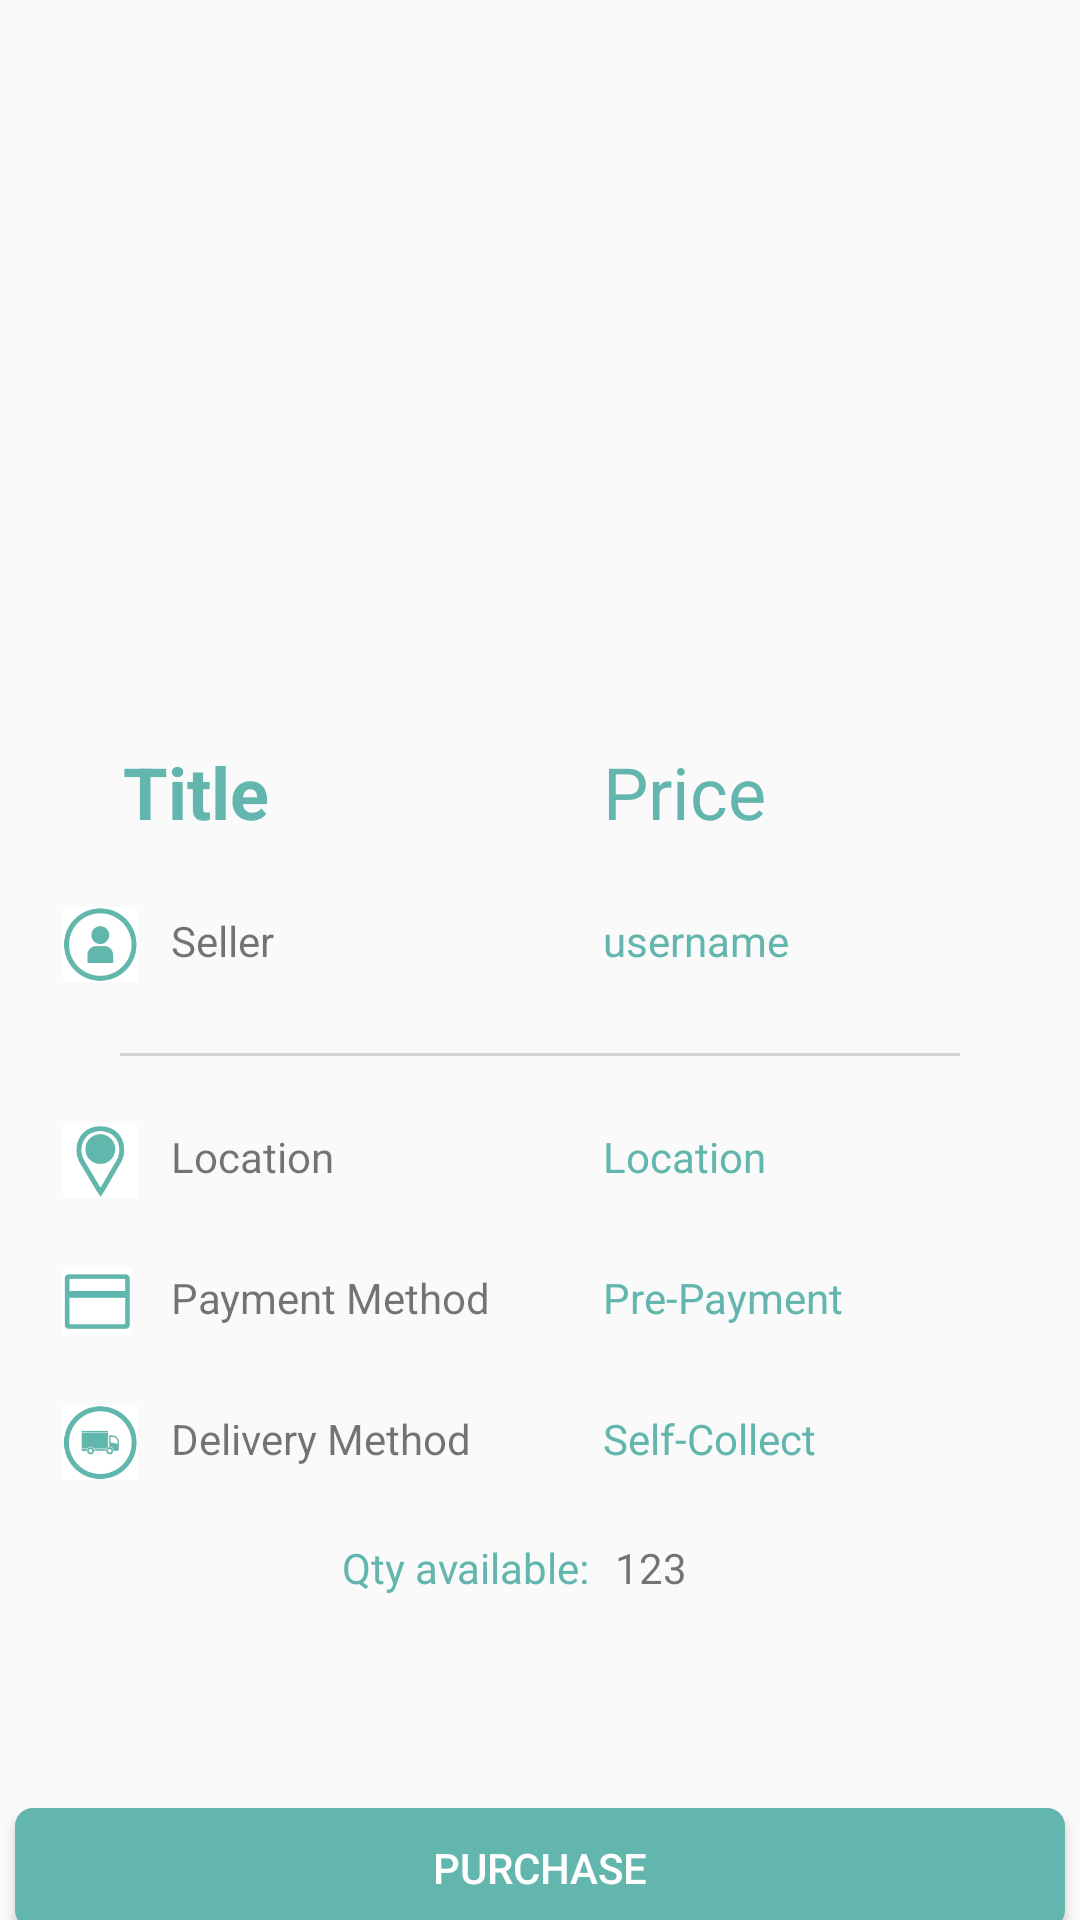

Named icons in this screenshot (1080px x 1920px) and their centers, (x,y):
profileicon: (100,944)
